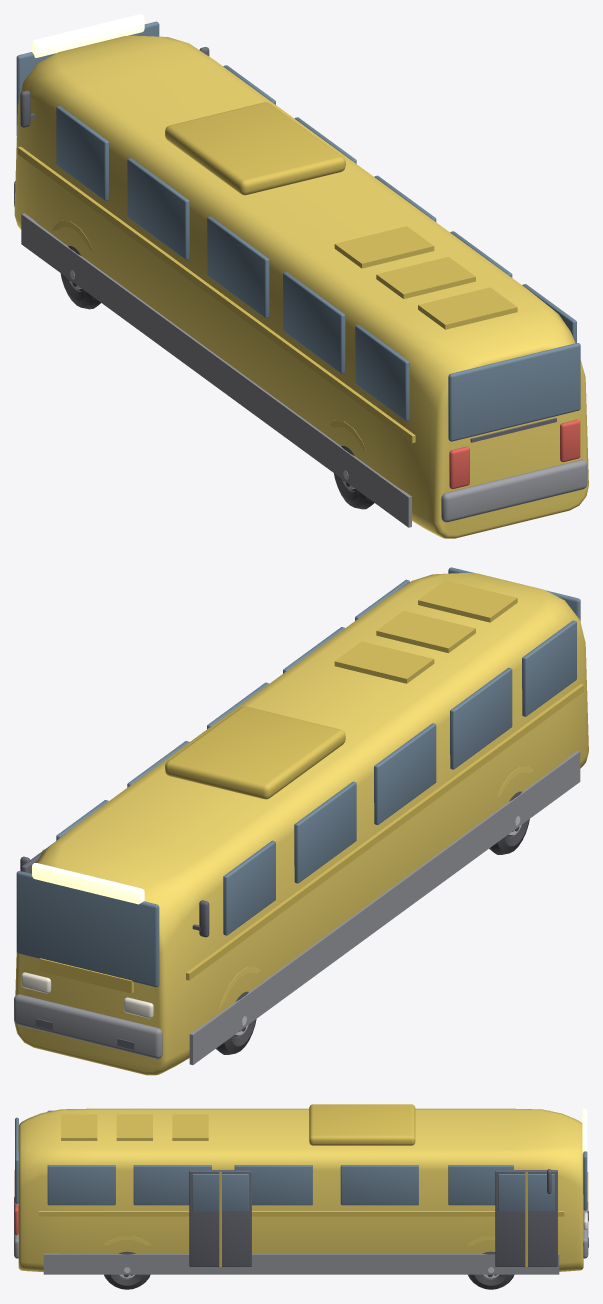
File: th9_stadtbus.glb
3 renders of one model, top to bottom at view 1: azimuth 30°, elevation 25°; view 2: azimuth 150°, elevation 25°; view 3: azimuth 270°, elevation 25°, orthographic. The views are drawn at different scales.
Parts seen in each view (by area): view 1: Karosserie, Cube.034, Cube.079, Cube.012, Cube.013, Cube.033, Cube.025, Cube.027, Cube.029, Cube.031, Cube.023, Cube.080 (+6 smaller); view 2: Karosserie, Cube.034, Cube, Cube.079, Cube.002, Cube.033, Cube.029, Cube.025, Cube.027, Cube.031, Cube.023, Cube.080 (+4 smaller); view 3: Karosserie, Cube.036, Cube.079, Cube.037, Cube.040, Cube.026, Cube.032, Cube.028, Cube.030, Cube.035, Cube.041, Cube.024 (+11 smaller).
Boxes of the visible parts, bbox=[...] form: Karosserie: bbox=[14, 35, 588, 538]; Cube.034: bbox=[21, 213, 411, 527]; Cube.079: bbox=[165, 102, 345, 195]; Cube.012: bbox=[448, 343, 580, 441]; Cube.013: bbox=[441, 459, 587, 522]; Cube.033: bbox=[17, 146, 415, 442]; Cube.025: bbox=[127, 158, 189, 259]; Cube.027: bbox=[207, 216, 269, 318]; Cube.029: bbox=[283, 272, 345, 373]; Cube.031: bbox=[355, 324, 409, 420]; Cube.023: bbox=[56, 106, 108, 200]; Cube.080: bbox=[334, 226, 434, 268]; Karosserie: bbox=[14, 573, 588, 1075]; Cube.034: bbox=[189, 751, 580, 1064]; Cube: bbox=[16, 871, 159, 987]; Cube.079: bbox=[165, 706, 345, 799]; Cube.002: bbox=[14, 994, 162, 1058]; Cube.033: bbox=[186, 684, 583, 980]; Cube.029: bbox=[450, 667, 512, 769]; Cube.025: bbox=[294, 781, 356, 883]; Cube.027: bbox=[374, 723, 436, 824]; Cube.031: bbox=[522, 620, 576, 716]; Cube.023: bbox=[223, 840, 275, 935]; Cube.080: bbox=[334, 641, 434, 683]; Karosserie: bbox=[18, 1108, 583, 1271]; Cube.036: bbox=[43, 1253, 559, 1274]; Cube.079: bbox=[309, 1104, 415, 1145]; Cube.037: bbox=[495, 1170, 557, 1266]; Cube.040: bbox=[189, 1170, 251, 1266]; Cube.026: bbox=[340, 1165, 418, 1205]; Cube.032: bbox=[47, 1165, 115, 1205]; Cube.028: bbox=[234, 1165, 312, 1205]; Cube.030: bbox=[133, 1165, 211, 1205]; Cube.035: bbox=[38, 1211, 564, 1216]; Cube.041: bbox=[192, 1174, 248, 1211]; Cube.024: bbox=[448, 1165, 513, 1205].
Bounding box in the file's own units: 2.86 × 3.17 × 11.37.
